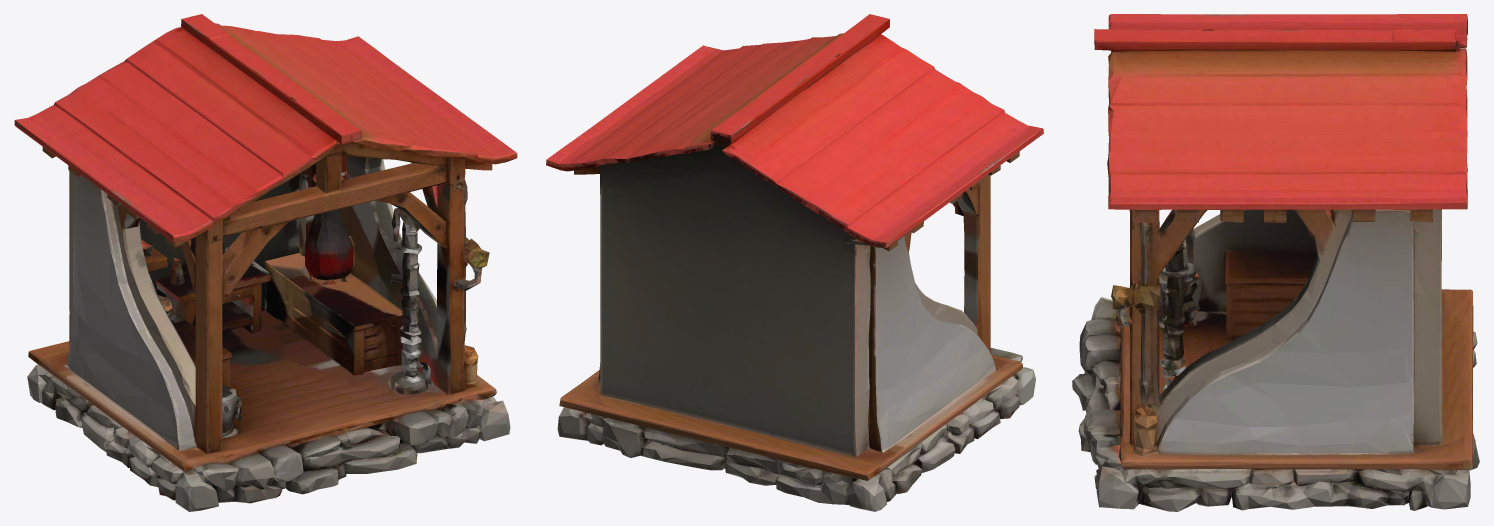
The model's file is wooden_workshop.glb.
3 views of the same model, side by side, from view 1: azimuth 30°, elevation 25°; view 2: azimuth 150°, elevation 25°; view 3: azimuth 270°, elevation 25° (orthographic). The views are drawn at different scales.
Size of the model in its own units: 1.97 by 1.89 by 1.79.
1 material, 1 textured.
